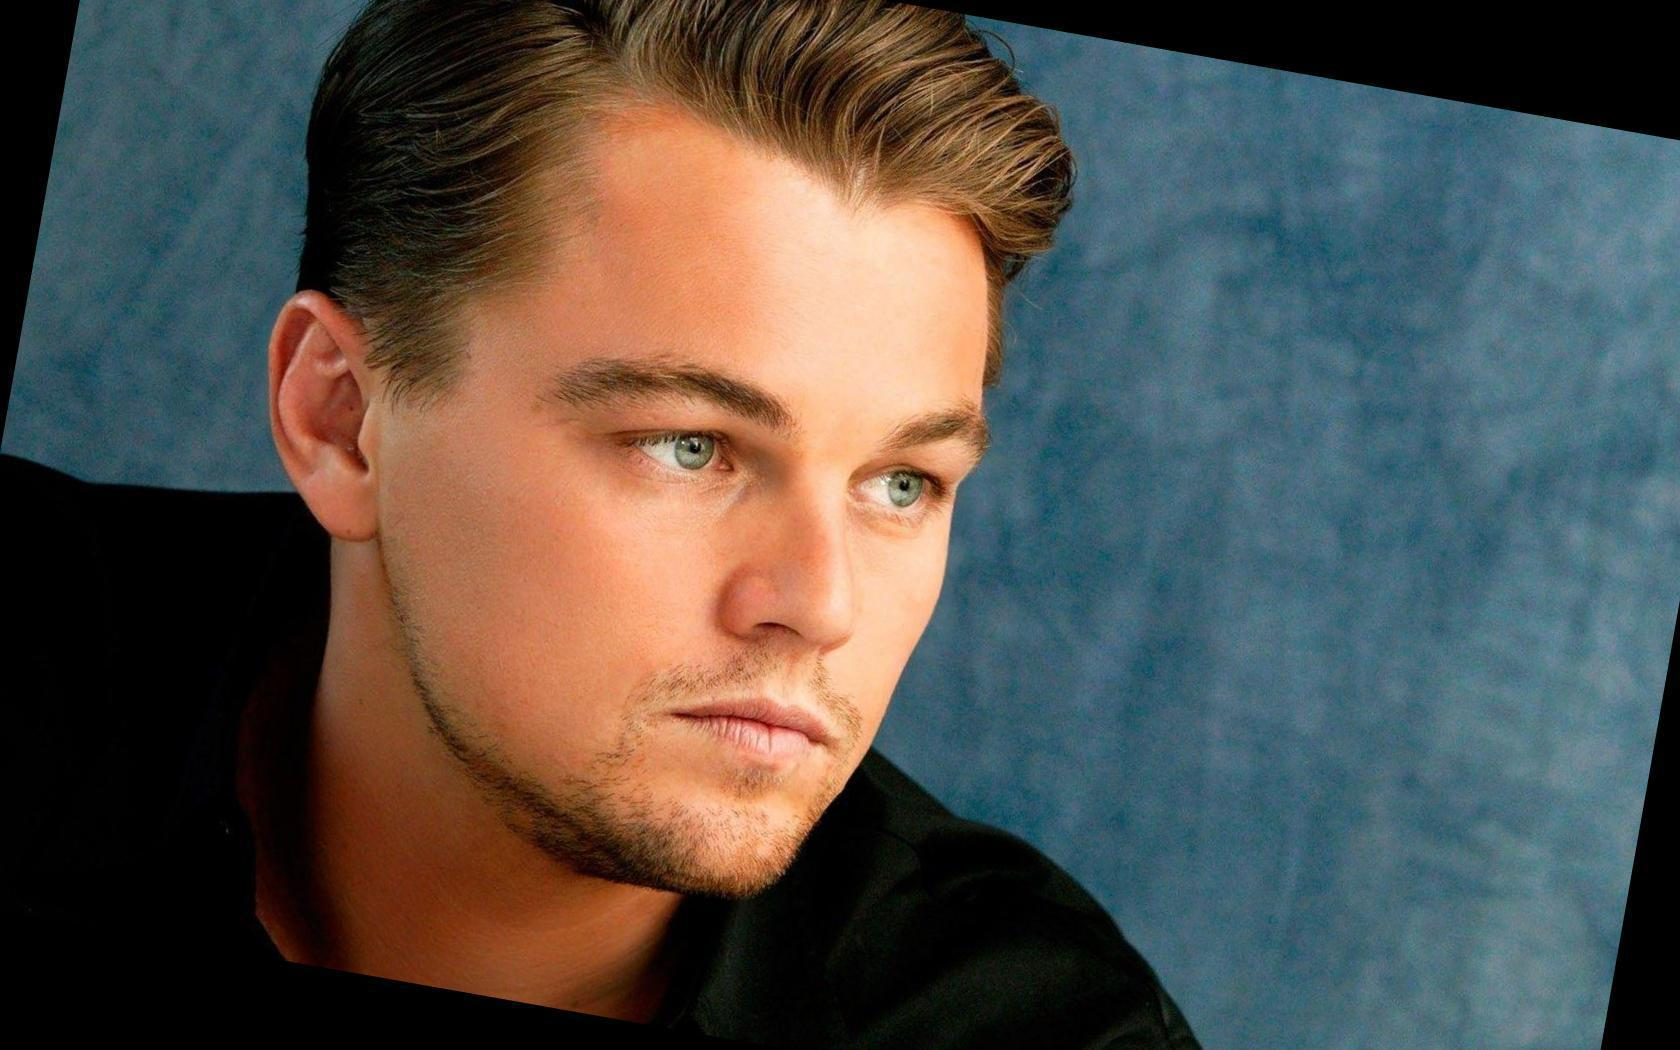Sober: (473, 100, 951, 898)
